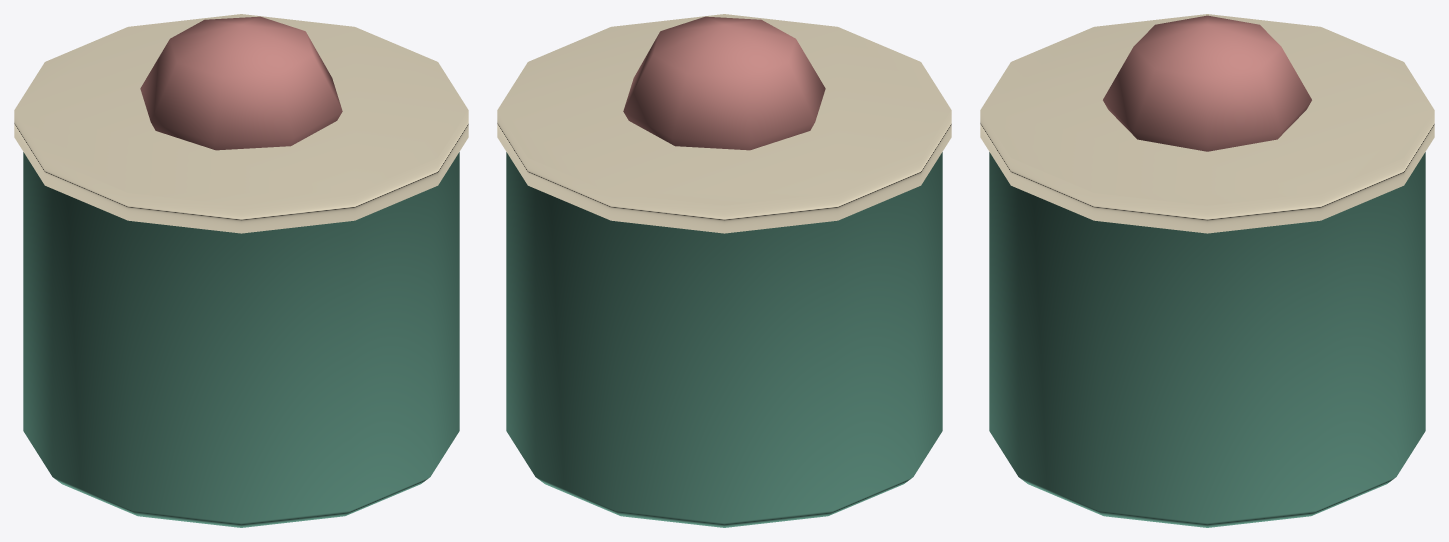
File: cargo_icecream.glb
3 renders of one model, left to right at view 1: azimuth 30°, elevation 25°; view 2: azimuth 150°, elevation 25°; view 3: azimuth 270°, elevation 25°, orthographic.
Parts seen in each view (by area): view 1: cargo_icecream; view 2: cargo_icecream; view 3: cargo_icecream.
Part boxes in pixels (x1,y1,x2,y2): cargo_icecream: (14, 14, 468, 527); cargo_icecream: (497, 14, 951, 527); cargo_icecream: (980, 14, 1434, 527).
Bounding box in the file's own units: 0.52 × 0.525 × 0.52.
